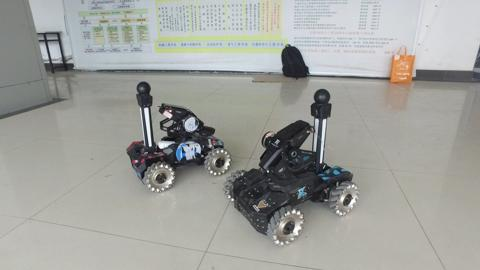chariot: (226, 86, 361, 252), (117, 77, 233, 191)
